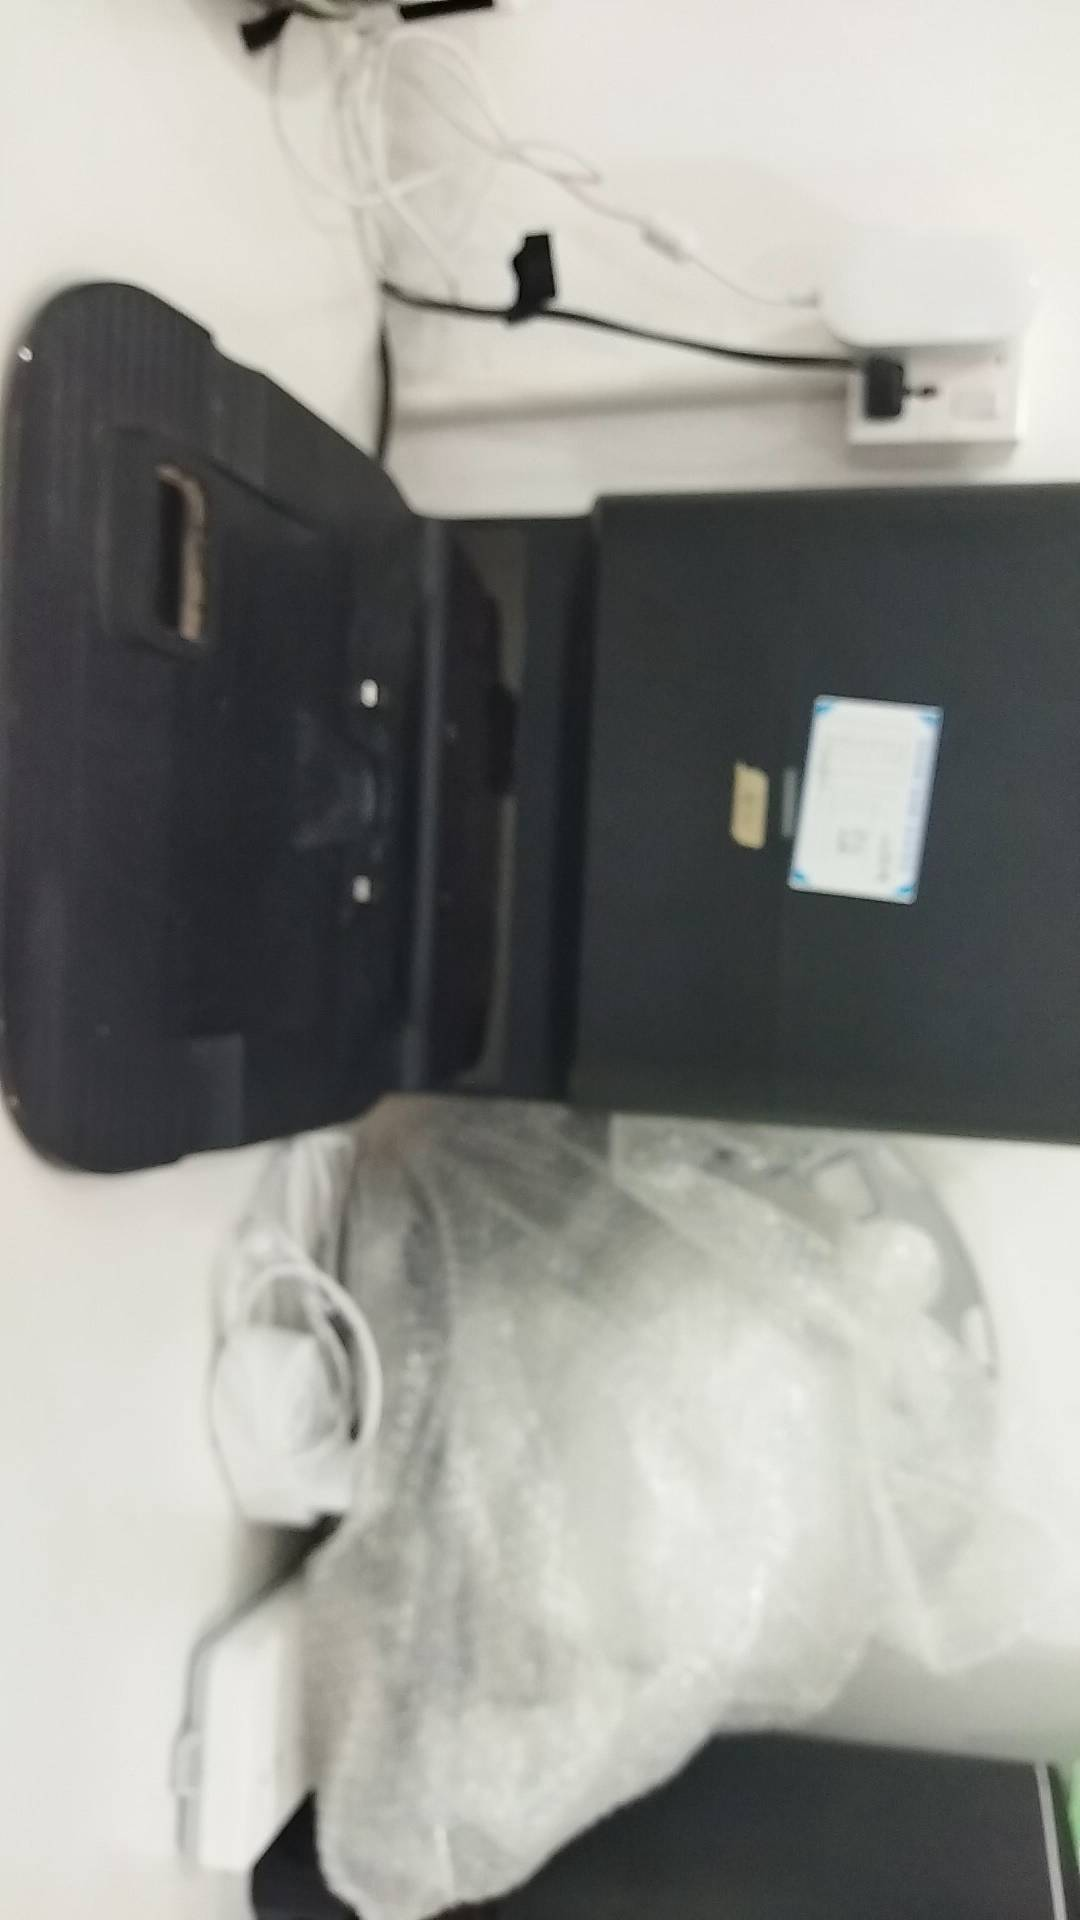dust collecting barrel: (8, 280, 1080, 1174)
